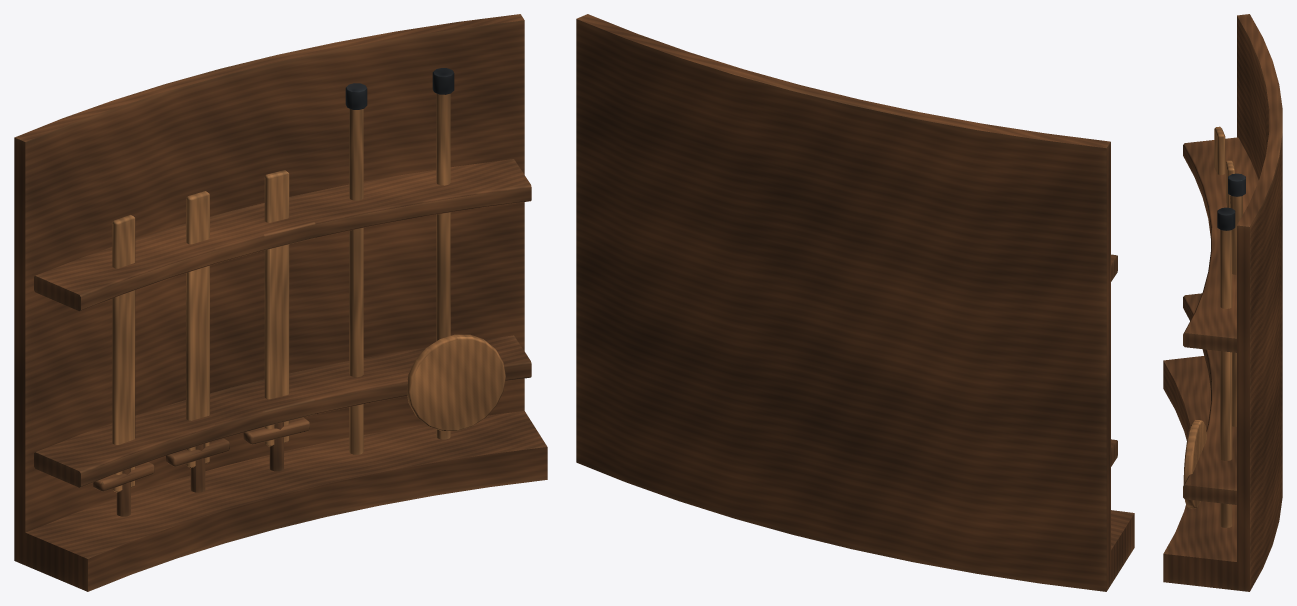
File: Furn_WeaponRack_Arc.fbx
3 views of the same model, side by side, from view 1: azimuth 30°, elevation 25°; view 2: azimuth 150°, elevation 25°; view 3: azimuth 270°, elevation 25° (orthographic). The views are drawn at different scales.
Parts seen in each view (by area): view 1: Furn_WeaponRack_Arc; view 2: Furn_WeaponRack_Arc; view 3: Furn_WeaponRack_Arc.
Boxes of the visible parts, x1=… form: Furn_WeaponRack_Arc: x1=14, y1=14, x2=547, y2=591; Furn_WeaponRack_Arc: x1=576, y1=14, x2=1134, y2=591; Furn_WeaponRack_Arc: x1=1163, y1=14, x2=1282, y2=591.
Size of the model in its own units: 2.25 by 1.8 by 0.5328.
3 materials, 3 textured.
